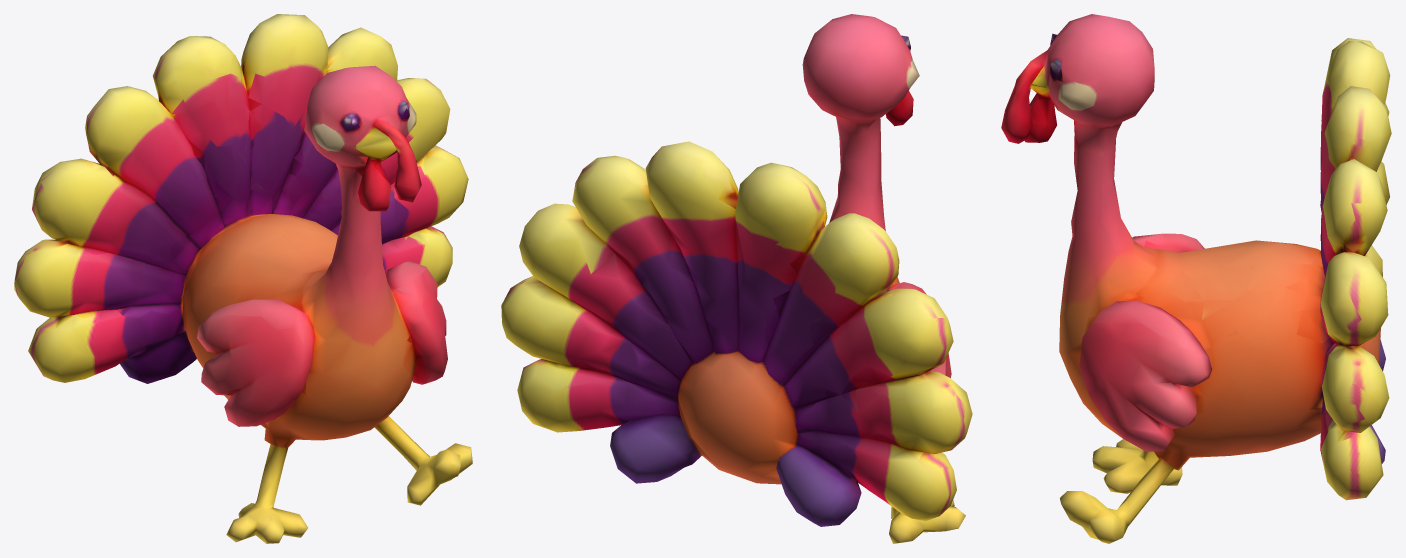
File: tribal_turkey_3000.glb
3 renders of one model, left to right at view 1: azimuth 30°, elevation 25°; view 2: azimuth 150°, elevation 25°; view 3: azimuth 270°, elevation 25°, orthographic. The views are drawn at different scales.
Visible parts, largest first — view 1: node_0; view 2: node_0; view 3: node_0.
Part boxes in pixels (left/top/right/bottom): node_0: left=14, top=14, right=472, bottom=543; node_0: left=501, top=14, right=972, bottom=543; node_0: left=1001, top=14, right=1391, bottom=543.
Size of the model in its own units: 1.03 by 1.02 by 0.7133.
1 material, 1 textured.
